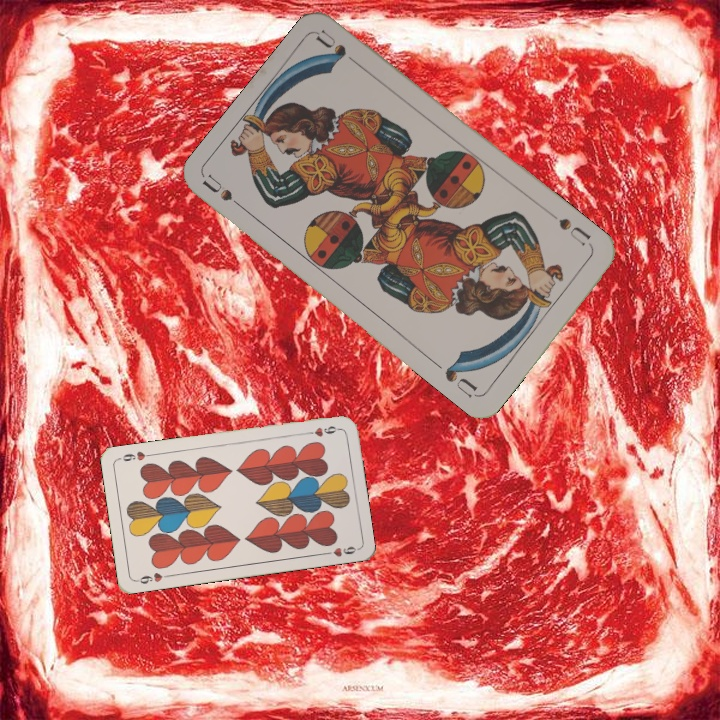H9: (132, 569, 173, 587), (302, 422, 342, 439)
SU: (199, 171, 252, 217), (554, 214, 596, 252)
